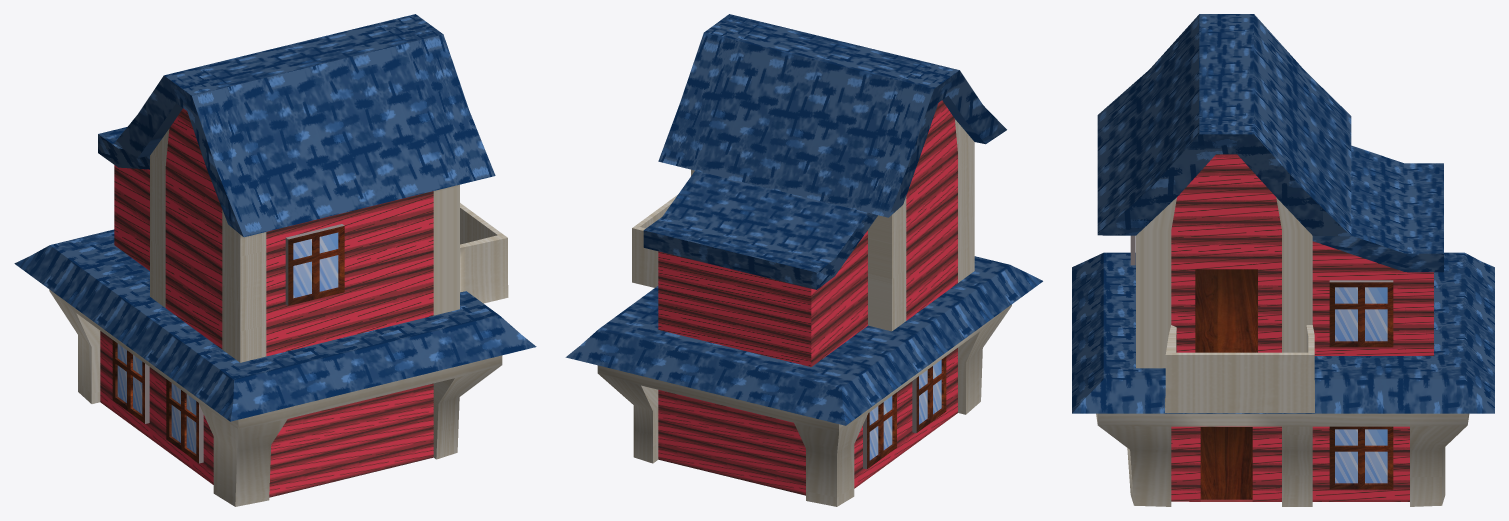
The model's file is Casa_bird.fbx.
The picture shows the model from 3 angles, left to right: view 1: azimuth 30°, elevation 25°; view 2: azimuth 150°, elevation 25°; view 3: azimuth 270°, elevation 25°; orthographic projection. The views are drawn at different scales.
Visible parts, largest first — view 1: Cube; view 2: Cube; view 3: Cube.
Part boxes in pixels (bbox=[...]): Cube: bbox=[14, 14, 536, 506]; Cube: bbox=[565, 14, 1042, 506]; Cube: bbox=[1072, 14, 1494, 506].
Bounding box in the file's own units: 1208 × 1379 × 1388.
